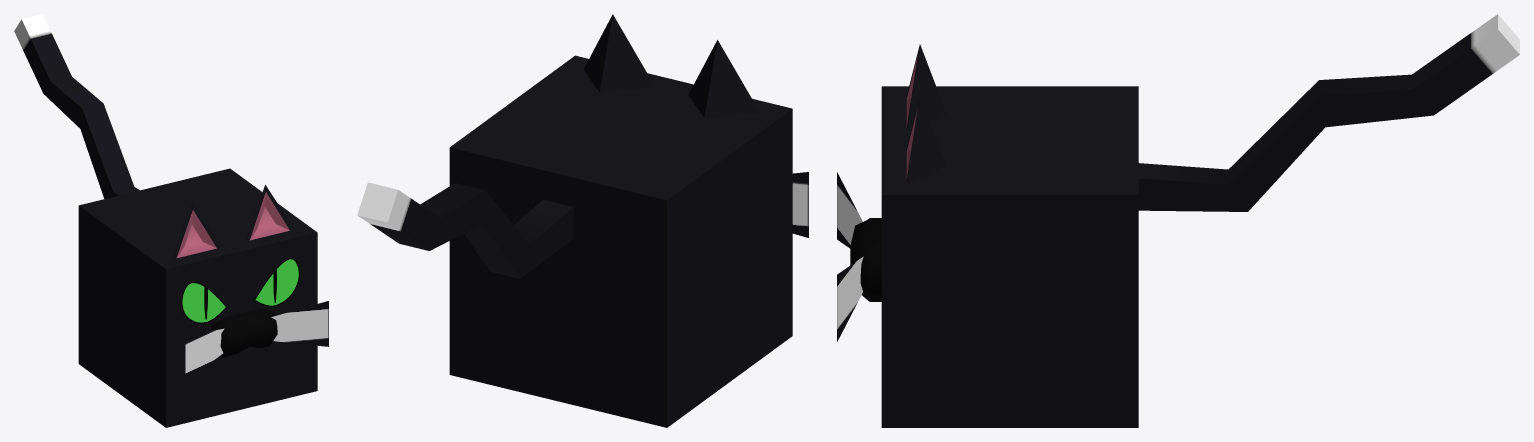
Rendered from cat.fbx.
3 renders of one model, left to right at view 1: azimuth 30°, elevation 25°; view 2: azimuth 150°, elevation 25°; view 3: azimuth 270°, elevation 25°, orthographic. The views are drawn at different scales.
Parts seen in each view (by area): view 1: Cat; view 2: Cat; view 3: Cat.
Boxes of the visible parts, box(x1,y1,x2,y2) form: Cat: box(14, 14, 328, 427); Cat: box(357, 14, 808, 427); Cat: box(837, 14, 1519, 427).
Size of the model in its own units: 100 by 151 by 266.
